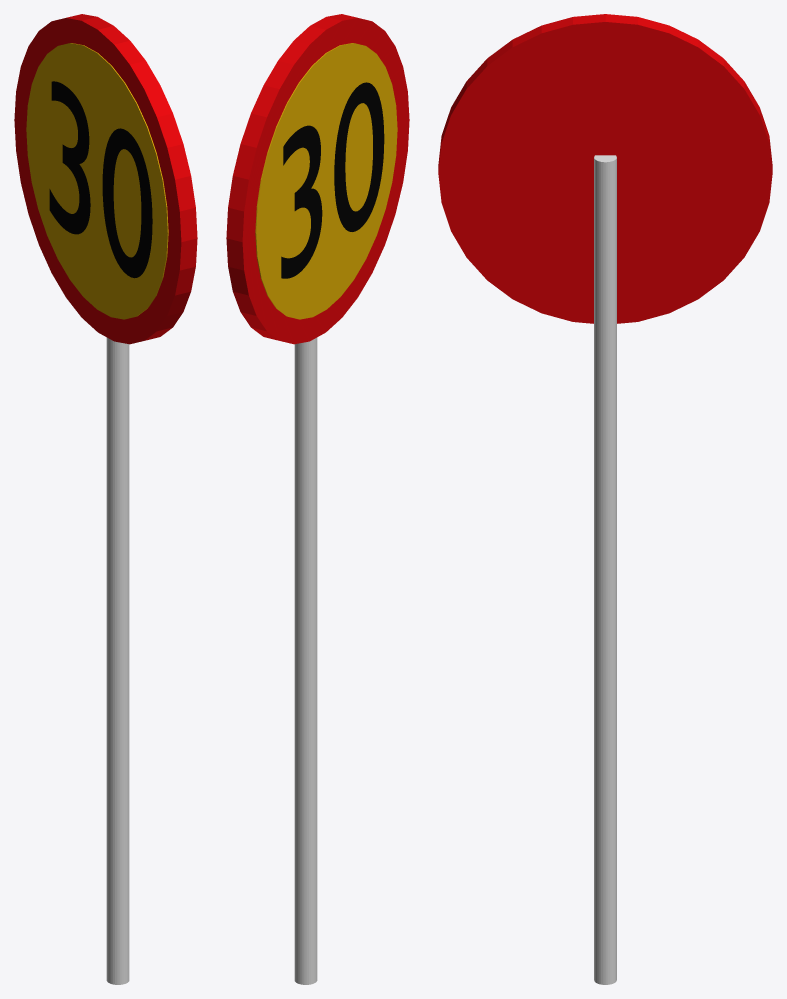
Rendered from sign_30.fbx.
3 renders of one model, left to right at view 1: azimuth 30°, elevation 25°; view 2: azimuth 150°, elevation 25°; view 3: azimuth 270°, elevation 25°, orthographic.
Parts seen in each view (by area): view 1: Cylinder.001, Cylinder.002, Cylinder, Text.001; view 2: Cylinder.001, Cylinder.002, Cylinder, Text.001; view 3: Cylinder.002, Cylinder.
Part boxes in pixels (<box>): Cylinder.001: <box>26,43,168,319</box>; Cylinder.002: <box>14,14,197,344</box>; Cylinder: <box>106,337,129,984</box>; Text.001: <box>49,81,152,278</box>; Cylinder.001: <box>255,43,397,319</box>; Cylinder.002: <box>226,14,409,344</box>; Cylinder: <box>294,337,317,984</box>; Text.001: <box>281,82,384,278</box>; Cylinder.002: <box>438,14,772,323</box>; Cylinder: <box>594,155,616,984</box>.
Bounding box in the file's own units: 4.05 × 116 × 36.83.
